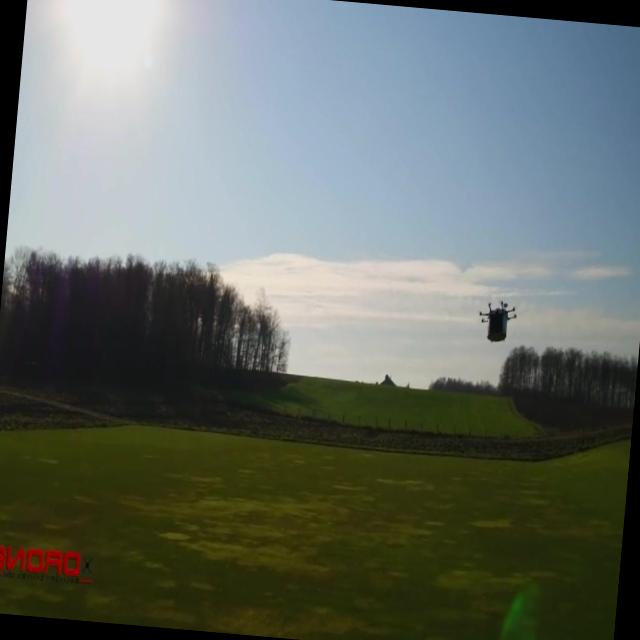drone: (474, 296, 519, 350)
